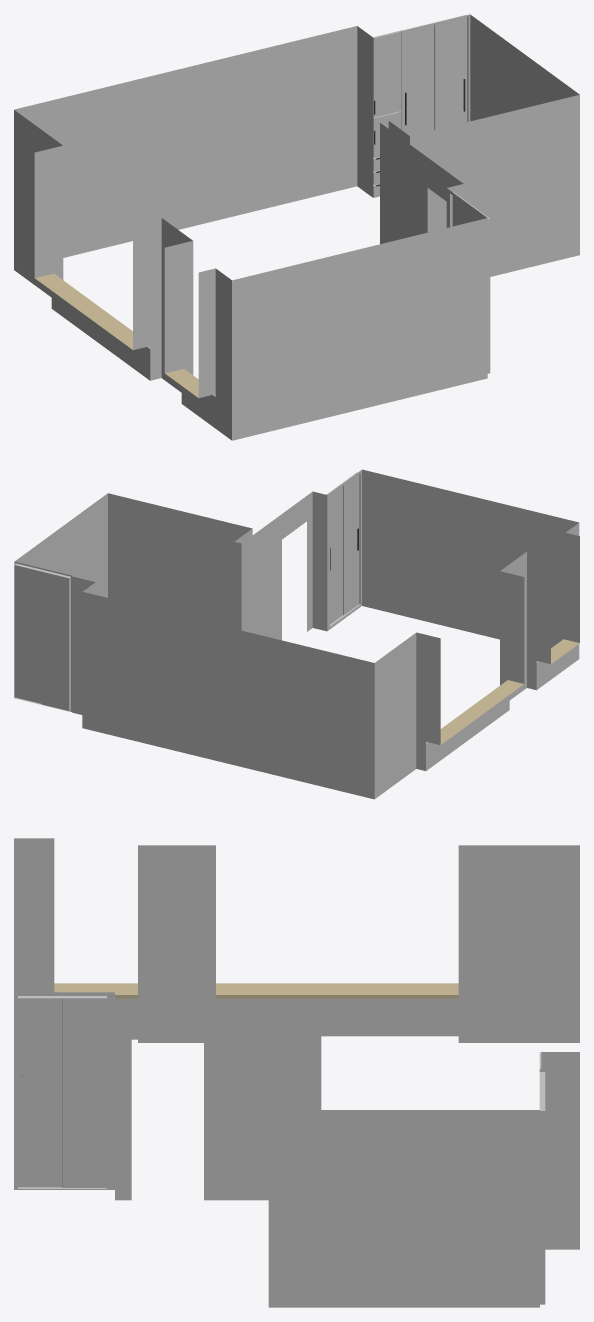
The model's file is Walls.fbx.
The picture shows the model from 3 angles, top to bottom: view 1: azimuth 30°, elevation 25°; view 2: azimuth 150°, elevation 25°; view 3: azimuth 270°, elevation 25°; orthographic projection. The views are drawn at different scales.
Parts seen in each view (by area): view 1: Walls; view 2: Walls; view 3: Walls.
Part boxes in pixels (bbox=[...]): Walls: bbox=[14, 14, 579, 440]; Walls: bbox=[14, 469, 579, 799]; Walls: bbox=[14, 838, 579, 1307].
Size of the model in its own units: 824 by 270 by 700.
